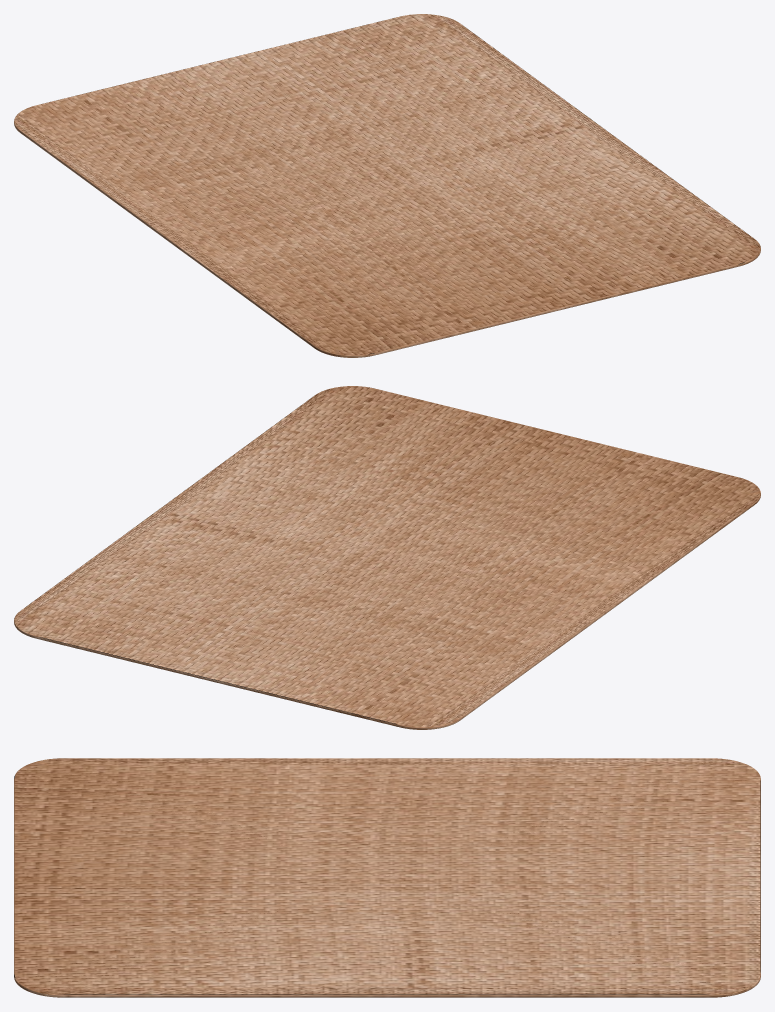
Rendered from petate.obj.
3 views of the same model, one above another, from view 1: azimuth 30°, elevation 25°; view 2: azimuth 150°, elevation 25°; view 3: azimuth 270°, elevation 25° (orthographic). The views are drawn at different scales.
Visible parts, largest first — view 1: petate; view 2: petate; view 3: petate.
Boxes of the visible parts, x1,y1,x2,y2 form: petate: (14,14,760,357); petate: (14,386,760,729); petate: (14,758,760,997).
Bounding box in the file's own units: 1.2 × 0.00662 × 1.6.
